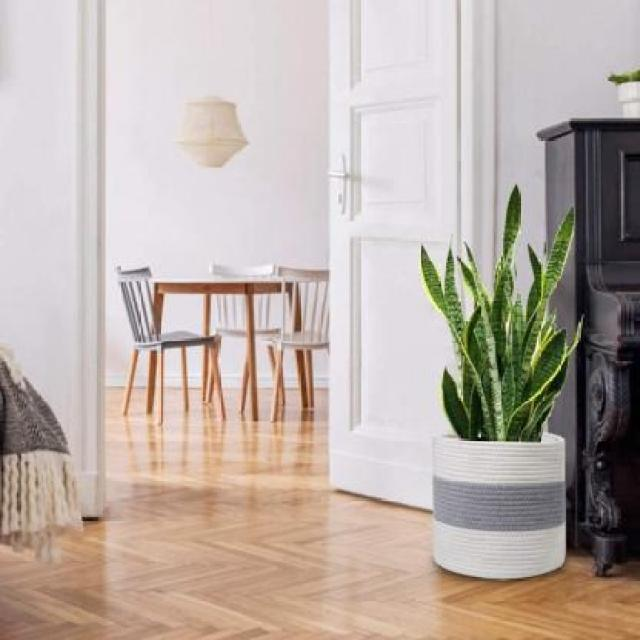Floor: (0, 386, 639, 640)
